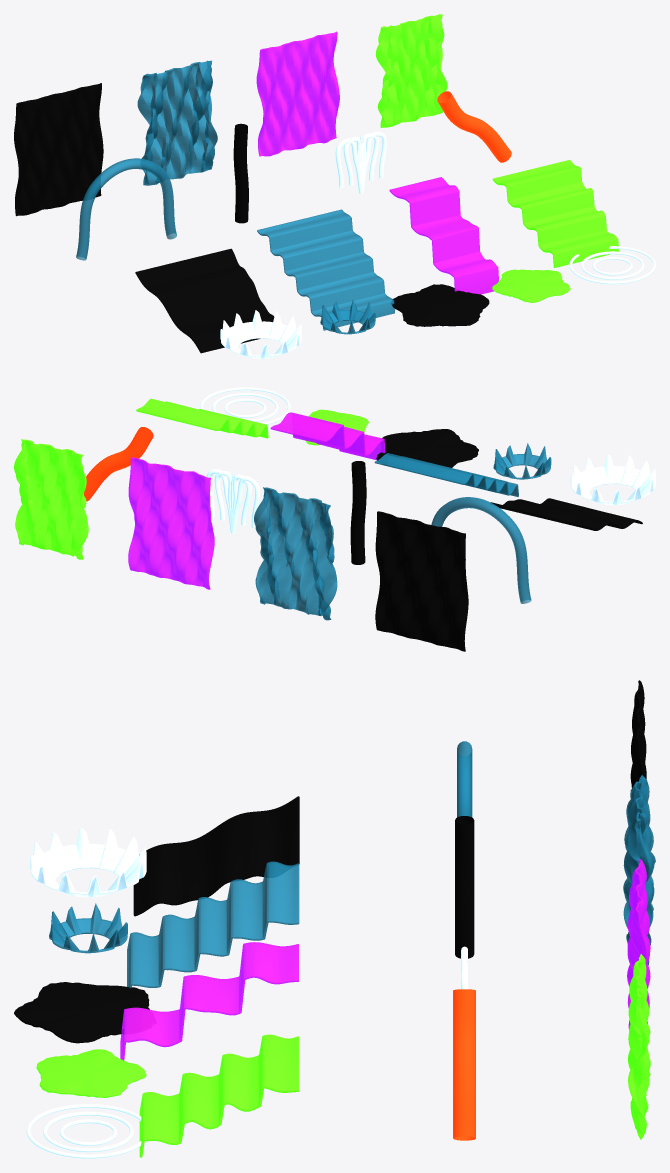
File: waterfall-kit.glb
The picture shows the model from 3 angles, top to bottom: view 1: azimuth 30°, elevation 25°; view 2: azimuth 150°, elevation 25°; view 3: azimuth 270°, elevation 25°; orthographic projection. The views are drawn at different scales.
Parts seen in each view (by area): view 1: WF01_Wide_Curtain, SP02_Stepped_Cascade, WF03_Arcane_Veil, SP01_Wide_Overflow_Lip, WF02_Braided_Cascade, SP04_Industrial_Runoff, WF04_Toxic_Runoff, SP03_Narrow_Side_Chute, FX03_Impact_Basin, FT01_Laminar_Arch, FX01_Impact_Crown_Large, FX04_Toxic_Basin (+5 smaller); view 2: WF01_Wide_Curtain, WF03_Arcane_Veil, WF02_Braided_Cascade, WF04_Toxic_Runoff, FX01_Impact_Crown_Large, SP03_Narrow_Side_Chute, FX03_Impact_Basin, SP01_Wide_Overflow_Lip, SP04_Industrial_Runoff, FT01_Laminar_Arch, SP02_Stepped_Cascade, FT04_Lava_Forge_Pour (+9 smaller); view 3: SP01_Wide_Overflow_Lip, SP02_Stepped_Cascade, SP04_Industrial_Runoff, SP03_Narrow_Side_Chute, FX03_Impact_Basin, FX01_Impact_Crown_Large, FX04_Toxic_Basin, FT04_Lava_Forge_Pour, WF04_Toxic_Runoff, WF02_Braided_Cascade, FT02_Vertical_Plume, FX02_Impact_Crown_Small (+5 smaller).
Part boxes in pixels (x1,y1,x2,y2): WF01_Wide_Curtain: (14, 83, 103, 216); SP02_Stepped_Cascade: (257, 209, 394, 330); WF03_Arcane_Veil: (256, 31, 339, 156); SP01_Wide_Overflow_Lip: (135, 248, 274, 353); WF02_Braided_Cascade: (137, 60, 217, 185); SP04_Industrial_Runoff: (492, 160, 619, 267); WF04_Toxic_Runoff: (375, 14, 447, 127); SP03_Narrow_Side_Chute: (389, 177, 498, 294); FX03_Impact_Basin: (391, 284, 489, 326); FT01_Laminar_Arch: (76, 158, 176, 260); FX01_Impact_Crown_Large: (220, 310, 301, 358); FX04_Toxic_Basin: (492, 269, 570, 302); WF01_Wide_Curtain: (375, 511, 468, 651); WF03_Arcane_Veil: (128, 457, 214, 589); WF02_Braided_Cascade: (254, 487, 337, 620); WF04_Toxic_Runoff: (14, 439, 88, 559); FX01_Impact_Crown_Large: (570, 454, 655, 505); SP03_Narrow_Side_Chute: (270, 412, 385, 460); FX03_Impact_Basin: (376, 429, 478, 467); SP01_Wide_Overflow_Lip: (490, 498, 642, 530); SP04_Industrial_Runoff: (136, 398, 268, 438); FT01_Laminar_Arch: (431, 497, 531, 603); SP02_Stepped_Cascade: (374, 453, 518, 496); FT04_Lava_Forge_Pour: (84, 427, 153, 501); SP01_Wide_Overflow_Lip: (133, 796, 299, 916); SP02_Stepped_Cascade: (127, 861, 299, 988); SP04_Industrial_Runoff: (139, 1034, 299, 1157); SP03_Narrow_Side_Chute: (120, 942, 298, 1060); FX03_Impact_Basin: (14, 982, 149, 1043); FX01_Impact_Crown_Large: (30, 827, 146, 897); FX04_Toxic_Basin: (36, 1049, 146, 1097); FT04_Lava_Forge_Pour: (453, 989, 475, 1140); WF04_Toxic_Runoff: (628, 954, 650, 1139); WF02_Braided_Cascade: (623, 775, 655, 965); FT02_Vertical_Plume: (455, 816, 474, 958); FX02_Impact_Crown_Small: (49, 903, 127, 953).
Size of what is drawn, in the model's own units: 11.44 by 3.16 by 10.07.
6 materials, 1 textured.
